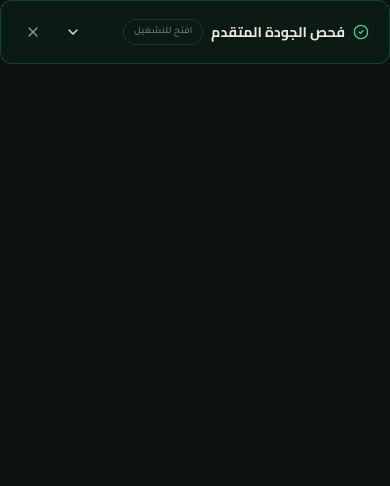
QualityChecksPanel › can disable the number rule for the current game and removes its issue
Click the text "فحص الجودة المتقدم".
click(278, 32)  # box [211,22,345,42]
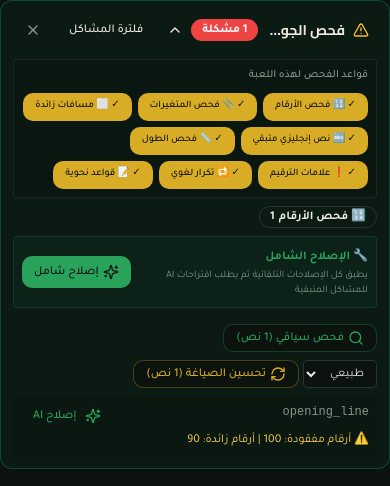
Result: the text "⚠️ أرقام مفقودة: 100 | أرقام زائدة: 90" is shown at [187,434,369,446]
Click the button "✓ 🔢 فحص الأرقام".
click(316, 106)  # box [263,92,368,120]
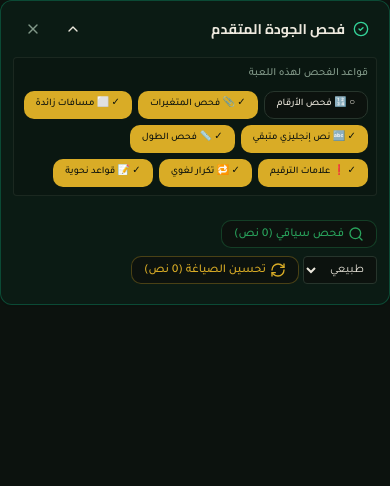
Result: the text "أرقام مفقودة: 100" is gone
